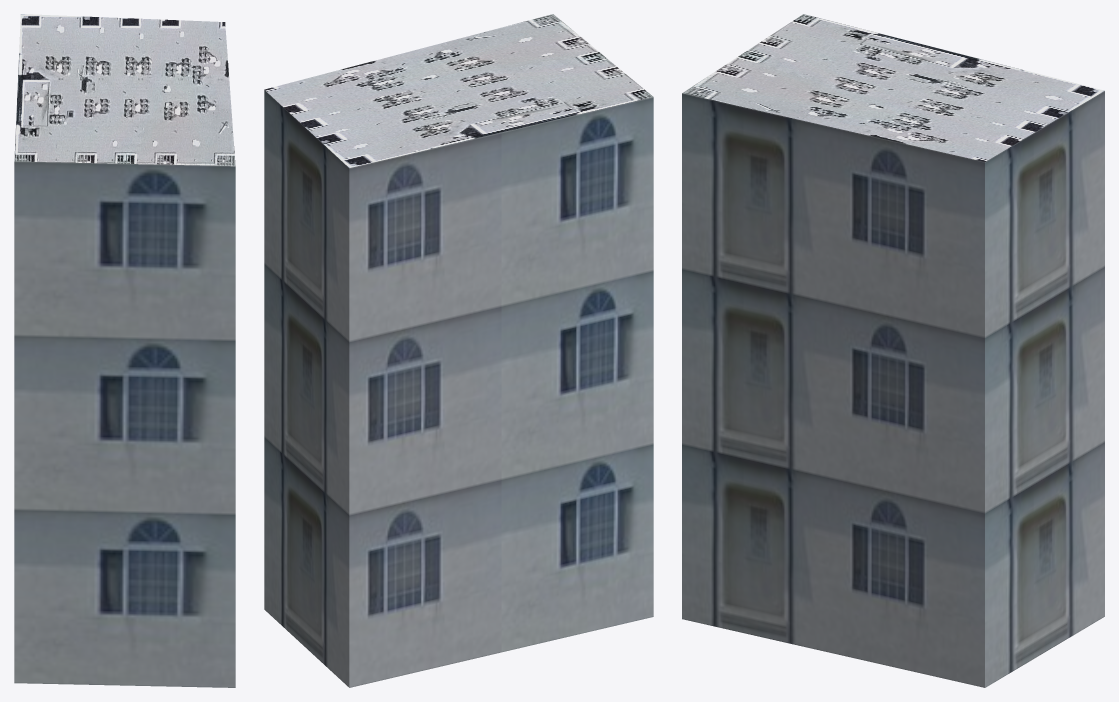
The model's file is ResTex__4471.fbx.
3 views of the same model, side by side, from view 1: azimuth 30°, elevation 25°; view 2: azimuth 150°, elevation 25°; view 3: azimuth 270°, elevation 25° (orthographic).
Parts seen in each view (by area): view 1: CityEngineMaterial_17_m, CityEngineMaterial_4_m; view 2: CityEngineMaterial_17_m, CityEngineMaterial_4_m; view 3: CityEngineMaterial_17_m, CityEngineMaterial_4_m.
Part boxes in pixels (bbox=[...]): CityEngineMaterial_17_m: bbox=[14, 161, 235, 687]; CityEngineMaterial_4_m: bbox=[14, 14, 235, 166]; CityEngineMaterial_17_m: bbox=[264, 90, 653, 687]; CityEngineMaterial_4_m: bbox=[264, 14, 653, 167]; CityEngineMaterial_17_m: bbox=[682, 91, 1104, 687]; CityEngineMaterial_4_m: bbox=[682, 14, 1104, 161].
Bounding box in the file's own units: 5.43 × 9 × 6.56.
Materials: 2 (2 with a texture image).
